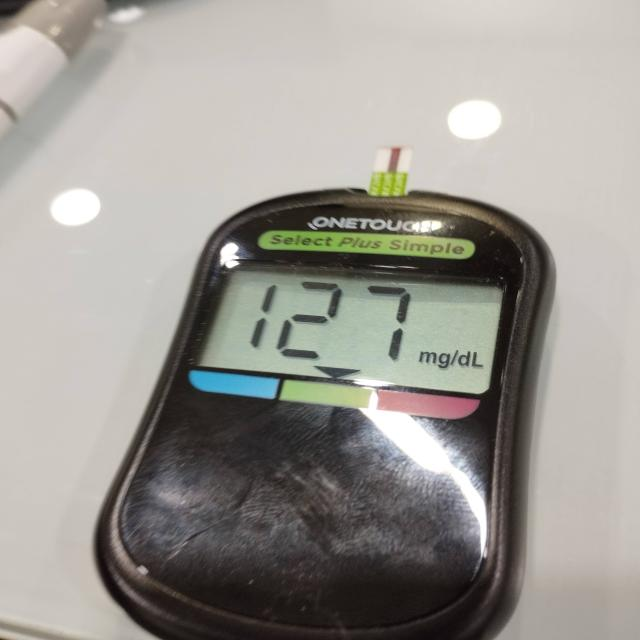gluco: (14, 152, 556, 640)
